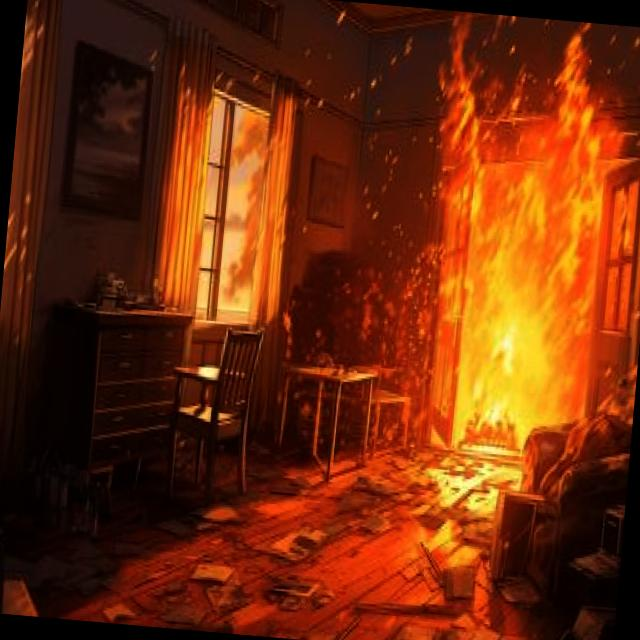Fire_Dangerous: (418, 41, 632, 468), (175, 82, 282, 338)
